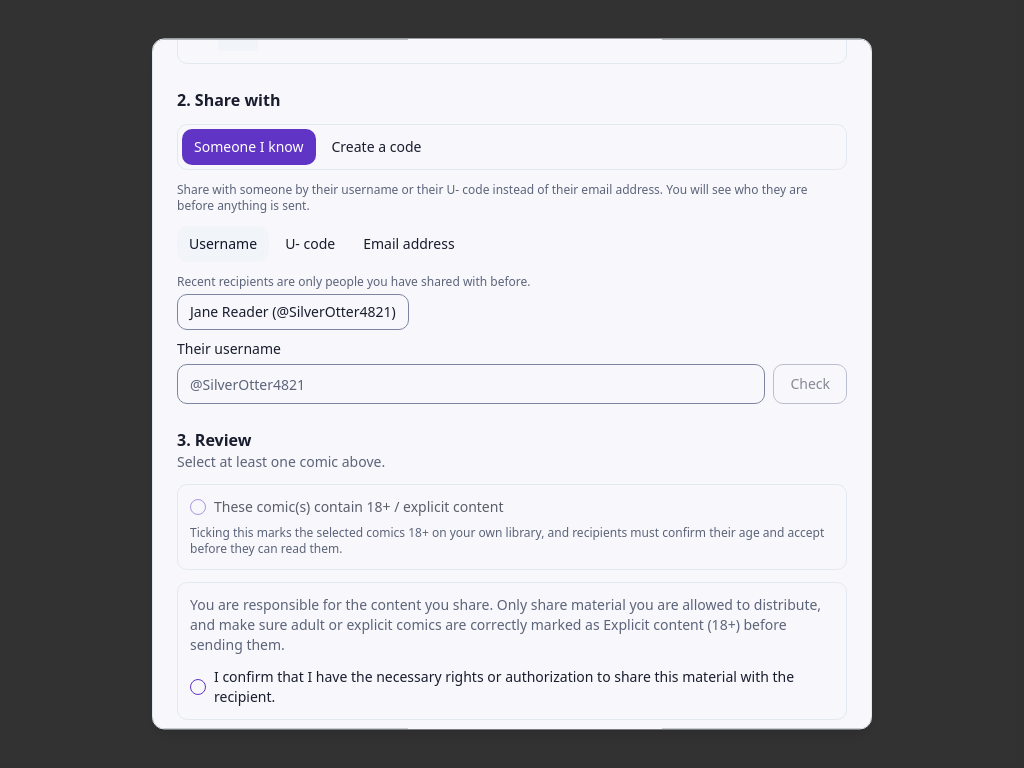
Test: ShareComicsDialog › checks who a username belongs to before anything is offered to them
(page scrolled)
In the field labelled "Their username": [471, 384] box [177,364,765,404], type "SilverOtter4821"
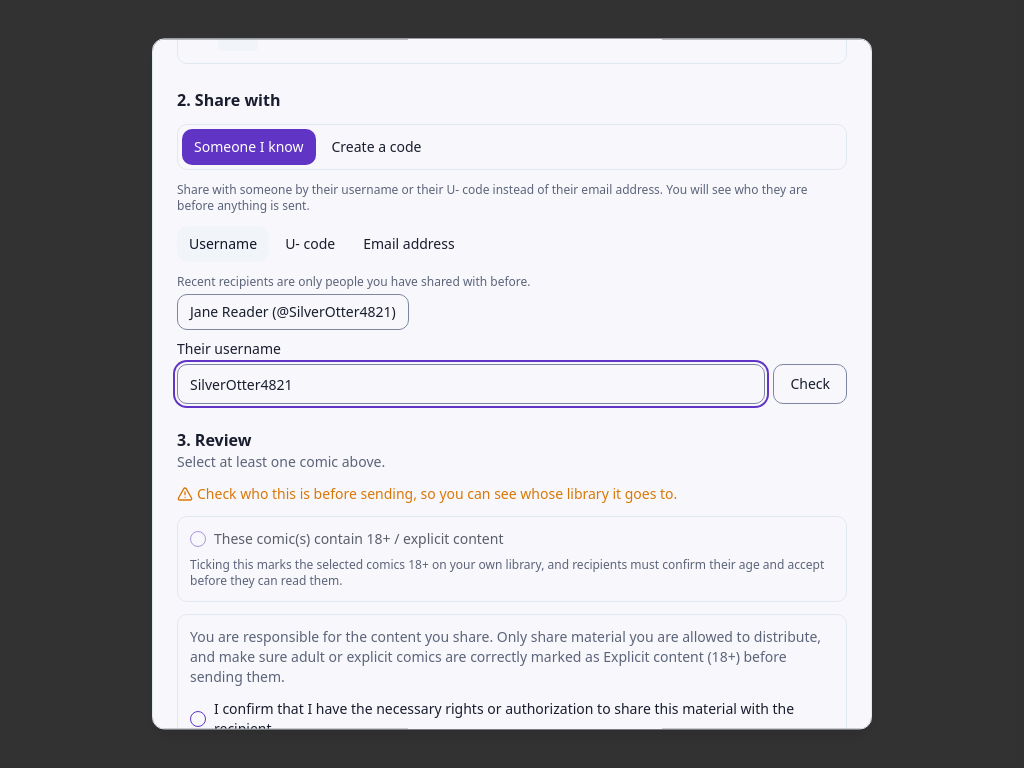
Click the button "Check": [810, 384] box [773,364,847,404]
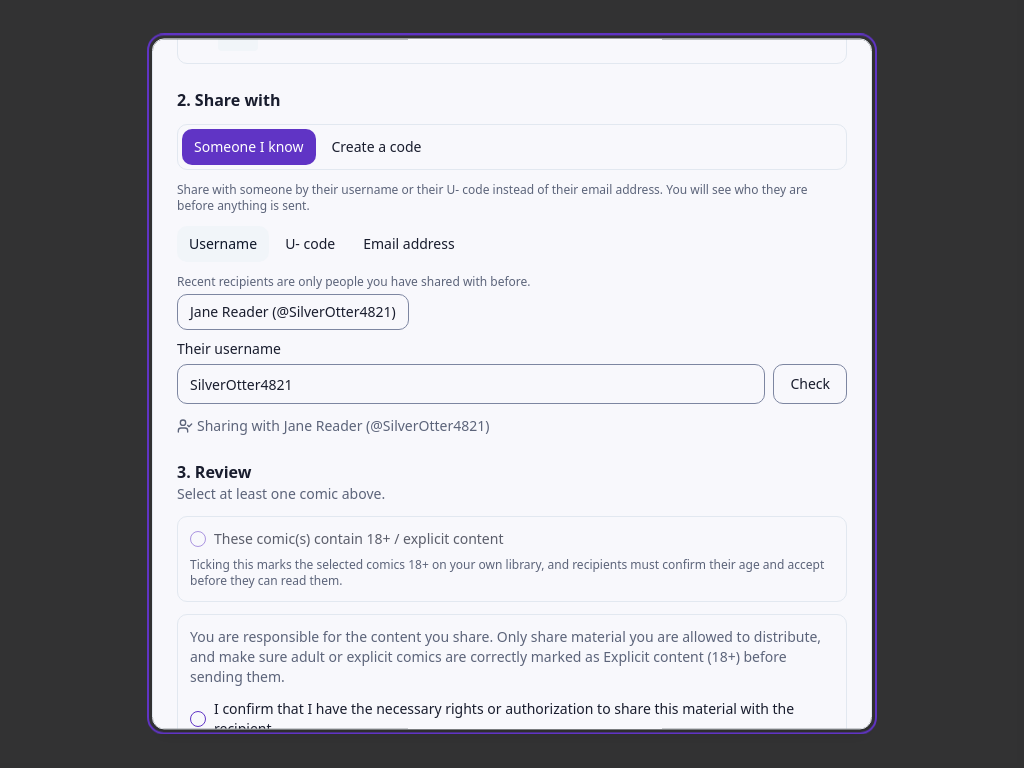
Now the text "Sharing with Jane Reader (@SilverOtter4821)" is shown, box [177,416,490,435]
